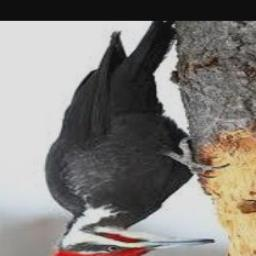Woodpecker: (46, 22, 229, 256)
